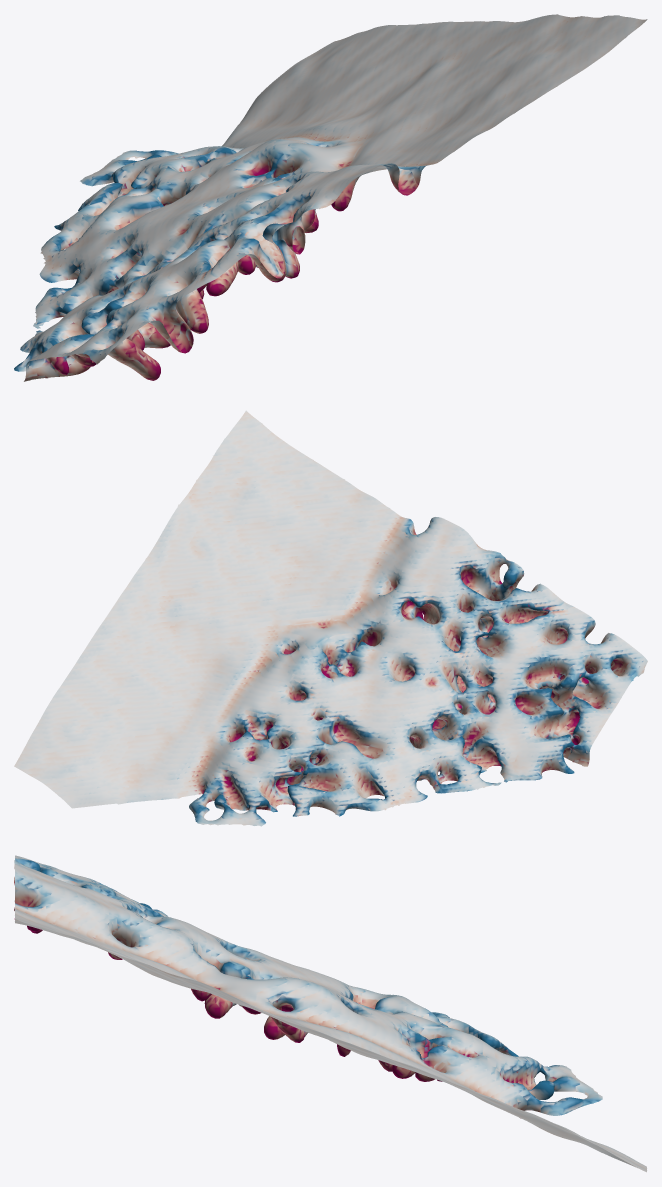
The model's file is crop1072_curvature.glb.
3 views of the same model, one above another, from view 1: azimuth 30°, elevation 25°; view 2: azimuth 150°, elevation 25°; view 3: azimuth 270°, elevation 25° (orthographic). The views are drawn at different scales.
Visible parts, largest first — view 1: geometry_0; view 2: geometry_0; view 3: geometry_0.
Boxes of the visible parts, x1,y1,x2,y2 form: geometry_0: (14, 14, 647, 381); geometry_0: (14, 410, 647, 826); geometry_0: (14, 855, 646, 1172).
Size of the model in its own units: 2280 by 1161 by 2279.
